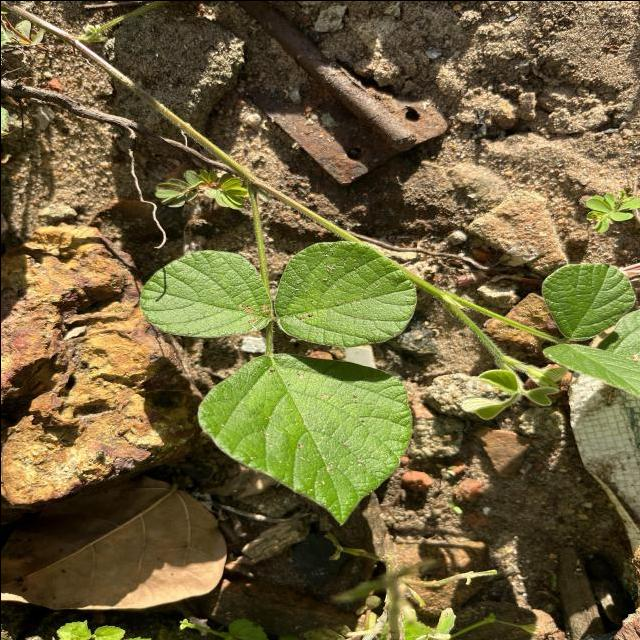Pseudarthria viscida: (134, 238, 422, 527)
